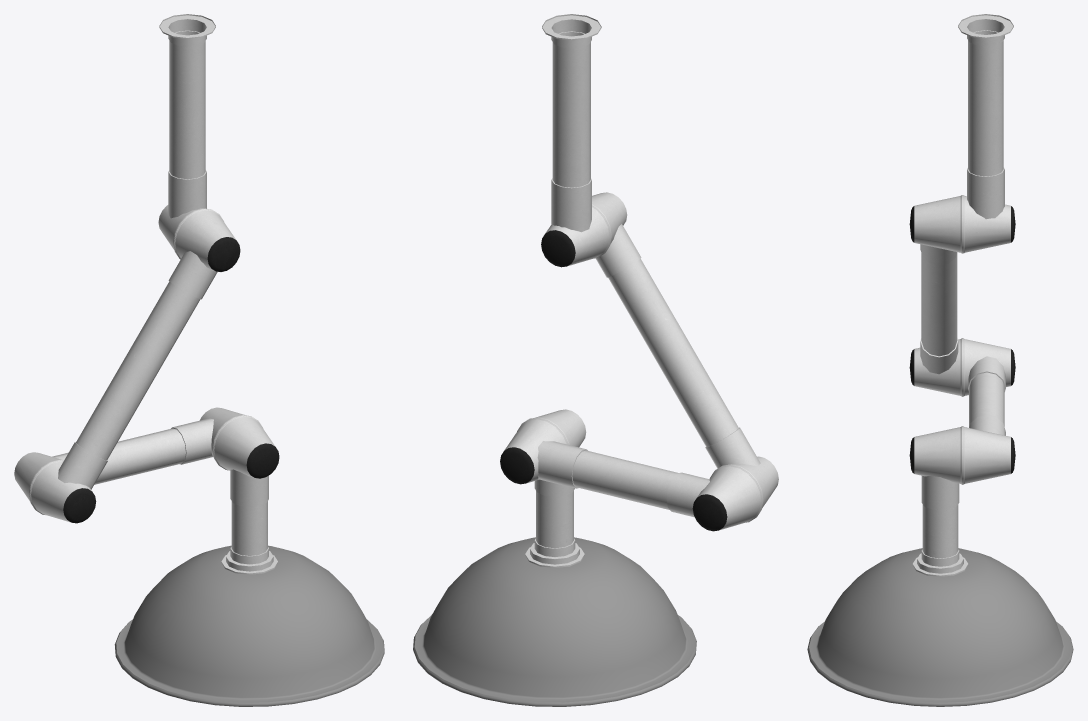
File: SM_吊顶式排气罩_012.fbx
3 views of the same model, side by side, from view 1: azimuth 30°, elevation 25°; view 2: azimuth 150°, elevation 25°; view 3: azimuth 270°, elevation 25° (orthographic). The views are drawn at different scales.
Visible parts, largest first — view 1: SM_吊顶式排气罩_012; view 2: SM_吊顶式排气罩_012; view 3: SM_吊顶式排气罩_012.
Boxes of the visible parts, x1,y1,x2,y2 form: SM_吊顶式排气罩_012: (14, 14, 384, 706); SM_吊顶式排气罩_012: (413, 14, 778, 706); SM_吊顶式排气罩_012: (807, 14, 1073, 706).
Size of the model in its own units: 104 by 187 by 74.46.
